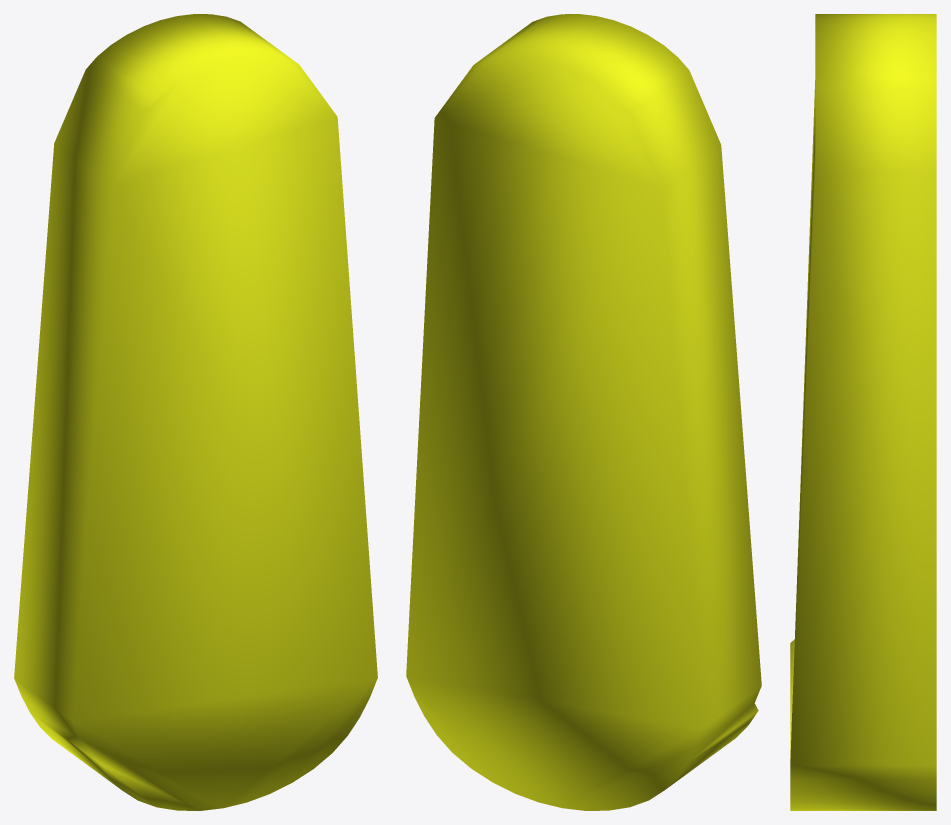
Rendered from membre32.fbx.
3 renders of one model, left to right at view 1: azimuth 30°, elevation 25°; view 2: azimuth 150°, elevation 25°; view 3: azimuth 270°, elevation 25°, orthographic. The views are drawn at different scales.
Parts seen in each view (by area): view 1: membre32; view 2: membre32; view 3: membre32.
Boxes of the visible parts, x1=… form: membre32: x1=14, y1=14, x2=377, y2=810; membre32: x1=406, y1=14, x2=761, y2=810; membre32: x1=790, y1=14, x2=936, y2=810.
Bounding box in the file's own units: 153 × 367 × 64.
